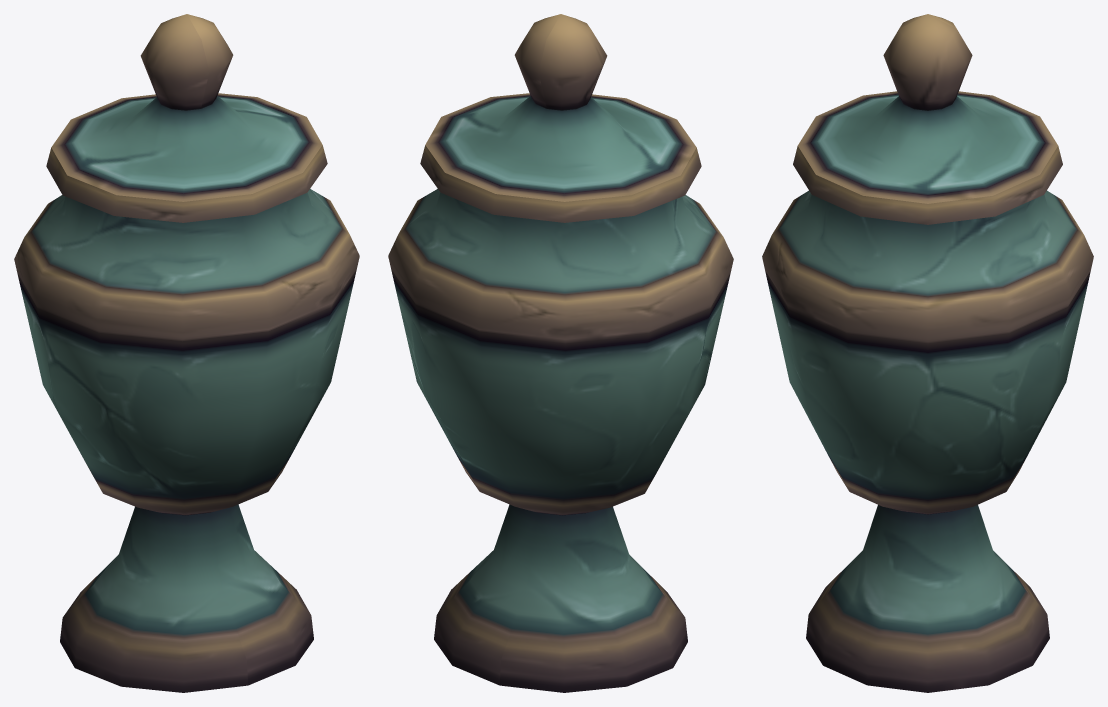
The model's file is urn_04.fbx.
3 renders of one model, left to right at view 1: azimuth 30°, elevation 25°; view 2: azimuth 150°, elevation 25°; view 3: azimuth 270°, elevation 25°, orthographic.
Parts seen in each view (by area): view 1: urn_04; view 2: urn_04; view 3: urn_04.
Part boxes in pixels (x1,y1,x2,y2): urn_04: (14,14,359,692); urn_04: (388,14,733,692); urn_04: (762,14,1093,692).
Size of the model in its own units: 11.74 by 23.03 by 11.1.
